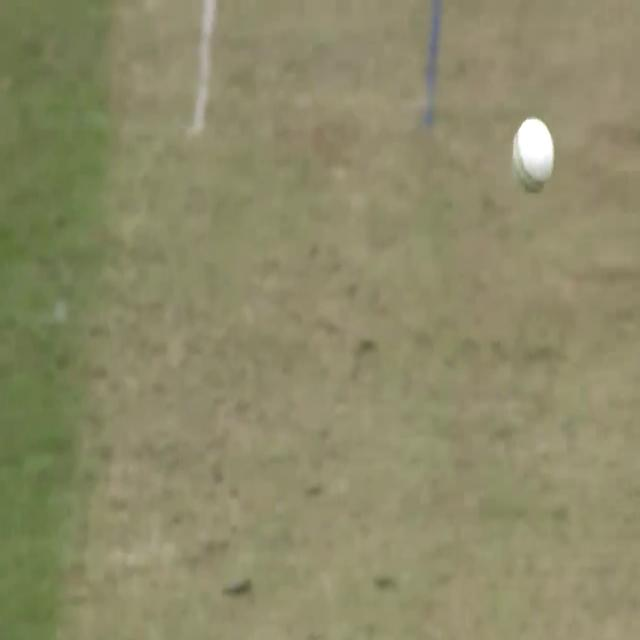ball: (510, 113, 558, 196)
